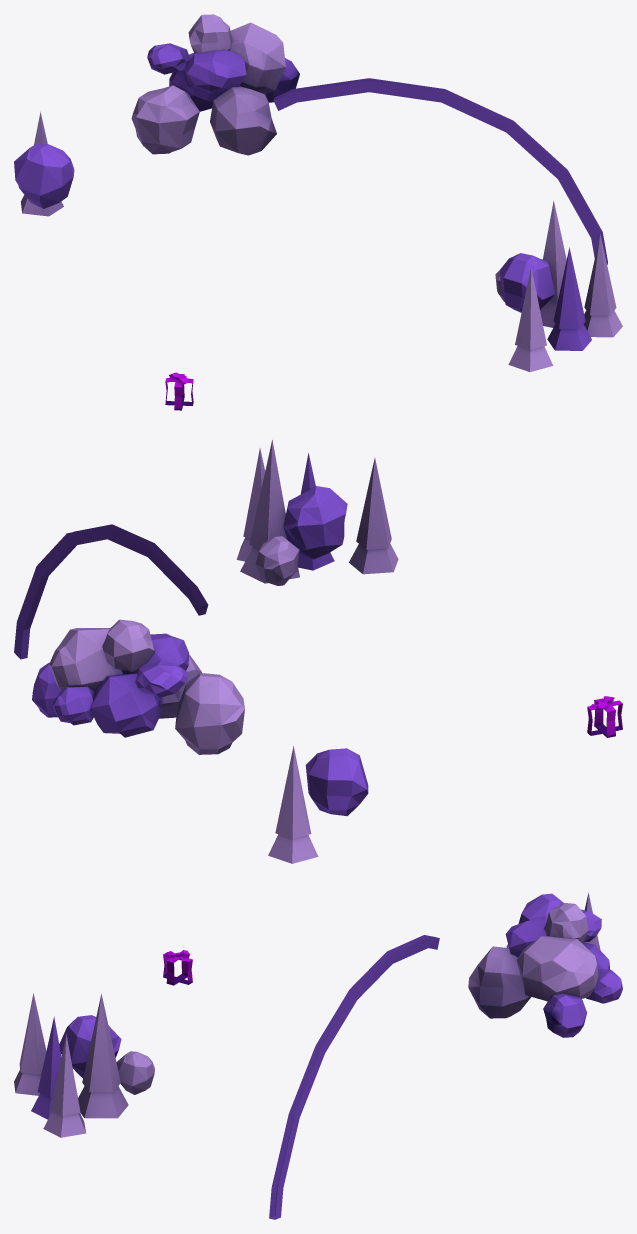
Rendered from Wood_01.FBX.
3 views of the same model, one above another, from view 1: azimuth 30°, elevation 25°; view 2: azimuth 150°, elevation 25°; view 3: azimuth 270°, elevation 25° (orthographic). The views are drawn at different scales.
Parts seen in each view (by area): view 1: Wood_01; view 2: Wood_01; view 3: Wood_01.
Boxes of the visible parts, x1,y1,x2,y2 form: Wood_01: (14,14,622,410); Wood_01: (14,440,622,863); Wood_01: (14,892,622,1219).
Bounding box in the file's own units: 19.51 × 7.58 × 21.32.
